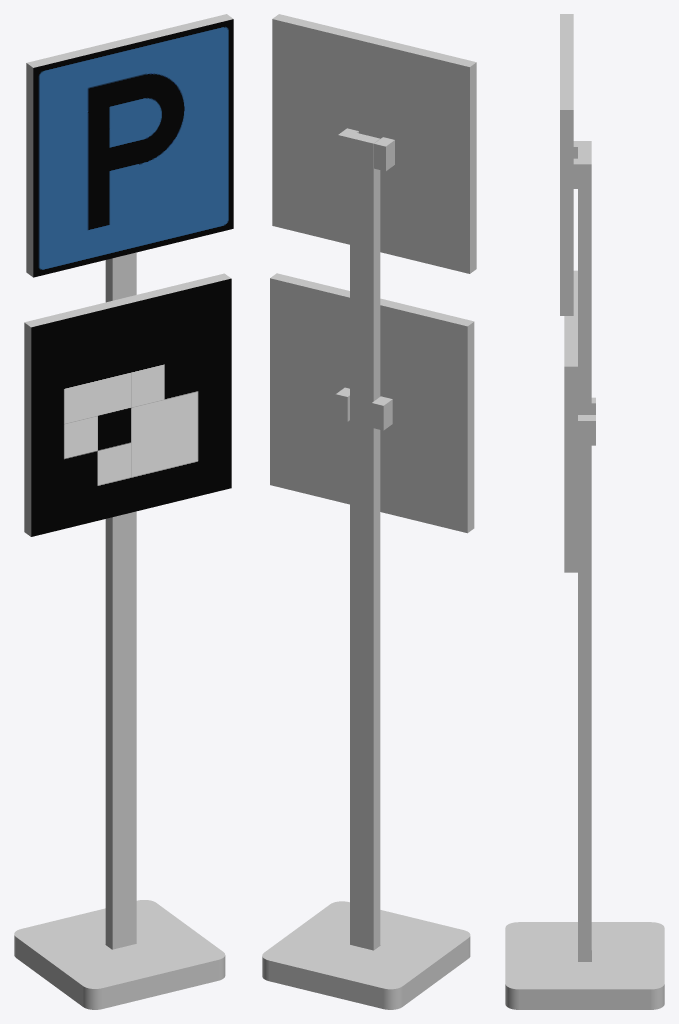
The model's file is parking_aruco.dae.
3 views of the same model, side by side, from view 1: azimuth 30°, elevation 25°; view 2: azimuth 150°, elevation 25°; view 3: azimuth 270°, elevation 25° (orthographic).
Parts seen in each view (by area): view 1: abedd77d-1516-4251-816e-ea903d536580, ab3e4f2b-e38e-4f41-935b-0e0f2f170ac5, ab79648a-8c7f-411a-ba25-4024e2585f6d, d8f997dd-c1a6-4da1-8114-7dad4d6daf5b, cf8b2c9a-e615-4e34-9cf0-c58e76f8306f, b1d47ebd-224a-4a95-8308-e4170a3d5b0f, be3e0e33-0721-4260-a822-bc196aae964a, ad4346ff-2a79-4a2d-be20-c3c84912935d; view 2: a2bce112-4125-4341-99fe-8079c4a2ddae, a1425988-72ba-486f-8b62-586d4a2df47d, ab79648a-8c7f-411a-ba25-4024e2585f6d, d8f997dd-c1a6-4da1-8114-7dad4d6daf5b, b1d47ebd-224a-4a95-8308-e4170a3d5b0f, be3e0e33-0721-4260-a822-bc196aae964a, cf8b2c9a-e615-4e34-9cf0-c58e76f8306f, ad4346ff-2a79-4a2d-be20-c3c84912935d, a42acc4a-746c-4647-b3a7-3314ab5d9576, a2831800-ab7f-4e5d-9b66-e997ca0fcd81; view 3: d8f997dd-c1a6-4da1-8114-7dad4d6daf5b, ab79648a-8c7f-411a-ba25-4024e2585f6d, e69fe548-828e-4189-badc-4ec1382026a7, d986b7c0-8b93-4be6-b761-07b010dcda67, be3e0e33-0721-4260-a822-bc196aae964a, ad4346ff-2a79-4a2d-be20-c3c84912935d, ae8f4cfc-6a64-4536-b8fb-873a1695300b, a8a3eca2-e4aa-46ad-9de1-48e3cb8e0905.
Part boxes in pixels (x1,y1,x2,y2): abedd77d-1516-4251-816e-ea903d536580: (31, 278, 231, 536); ab3e4f2b-e38e-4f41-935b-0e0f2f170ac5: (33, 19, 233, 277); ab79648a-8c7f-411a-ba25-4024e2585f6d: (105, 252, 136, 949); d8f997dd-c1a6-4da1-8114-7dad4d6daf5b: (14, 900, 225, 1009); cf8b2c9a-e615-4e34-9cf0-c58e76f8306f: (26, 63, 33, 276); b1d47ebd-224a-4a95-8308-e4170a3d5b0f: (24, 322, 31, 536); be3e0e33-0721-4260-a822-bc196aae964a: (27, 14, 232, 67); ad4346ff-2a79-4a2d-be20-c3c84912935d: (24, 273, 230, 327); a2bce112-4125-4341-99fe-8079c4a2ddae: (272, 19, 469, 273); a1425988-72ba-486f-8b62-586d4a2df47d: (270, 278, 467, 533); ab79648a-8c7f-411a-ba25-4024e2585f6d: (350, 133, 380, 950); d8f997dd-c1a6-4da1-8114-7dad4d6daf5b: (262, 901, 470, 1009); b1d47ebd-224a-4a95-8308-e4170a3d5b0f: (467, 322, 474, 532); be3e0e33-0721-4260-a822-bc196aae964a: (272, 14, 476, 66); cf8b2c9a-e615-4e34-9cf0-c58e76f8306f: (470, 62, 476, 273); ad4346ff-2a79-4a2d-be20-c3c84912935d: (270, 273, 473, 326); a42acc4a-746c-4647-b3a7-3314ab5d9576: (371, 396, 392, 430); a2831800-ab7f-4e5d-9b66-e997ca0fcd81: (374, 137, 394, 171); d8f997dd-c1a6-4da1-8114-7dad4d6daf5b: (505, 922, 664, 1009); ab79648a-8c7f-411a-ba25-4024e2585f6d: (578, 147, 591, 961); e69fe548-828e-4189-badc-4ec1382026a7: (564, 366, 577, 572); d986b7c0-8b93-4be6-b761-07b010dcda67: (560, 110, 573, 315); be3e0e33-0721-4260-a822-bc196aae964a: (560, 14, 573, 109); ad4346ff-2a79-4a2d-be20-c3c84912935d: (564, 270, 577, 366); ae8f4cfc-6a64-4536-b8fb-873a1695300b: (573, 158, 591, 188); a8a3eca2-e4aa-46ad-9de1-48e3cb8e0905: (578, 415, 595, 445).
Size of the model in its own units: 0.05 by 0.035 by 0.222.
2 materials, 2 textured.
